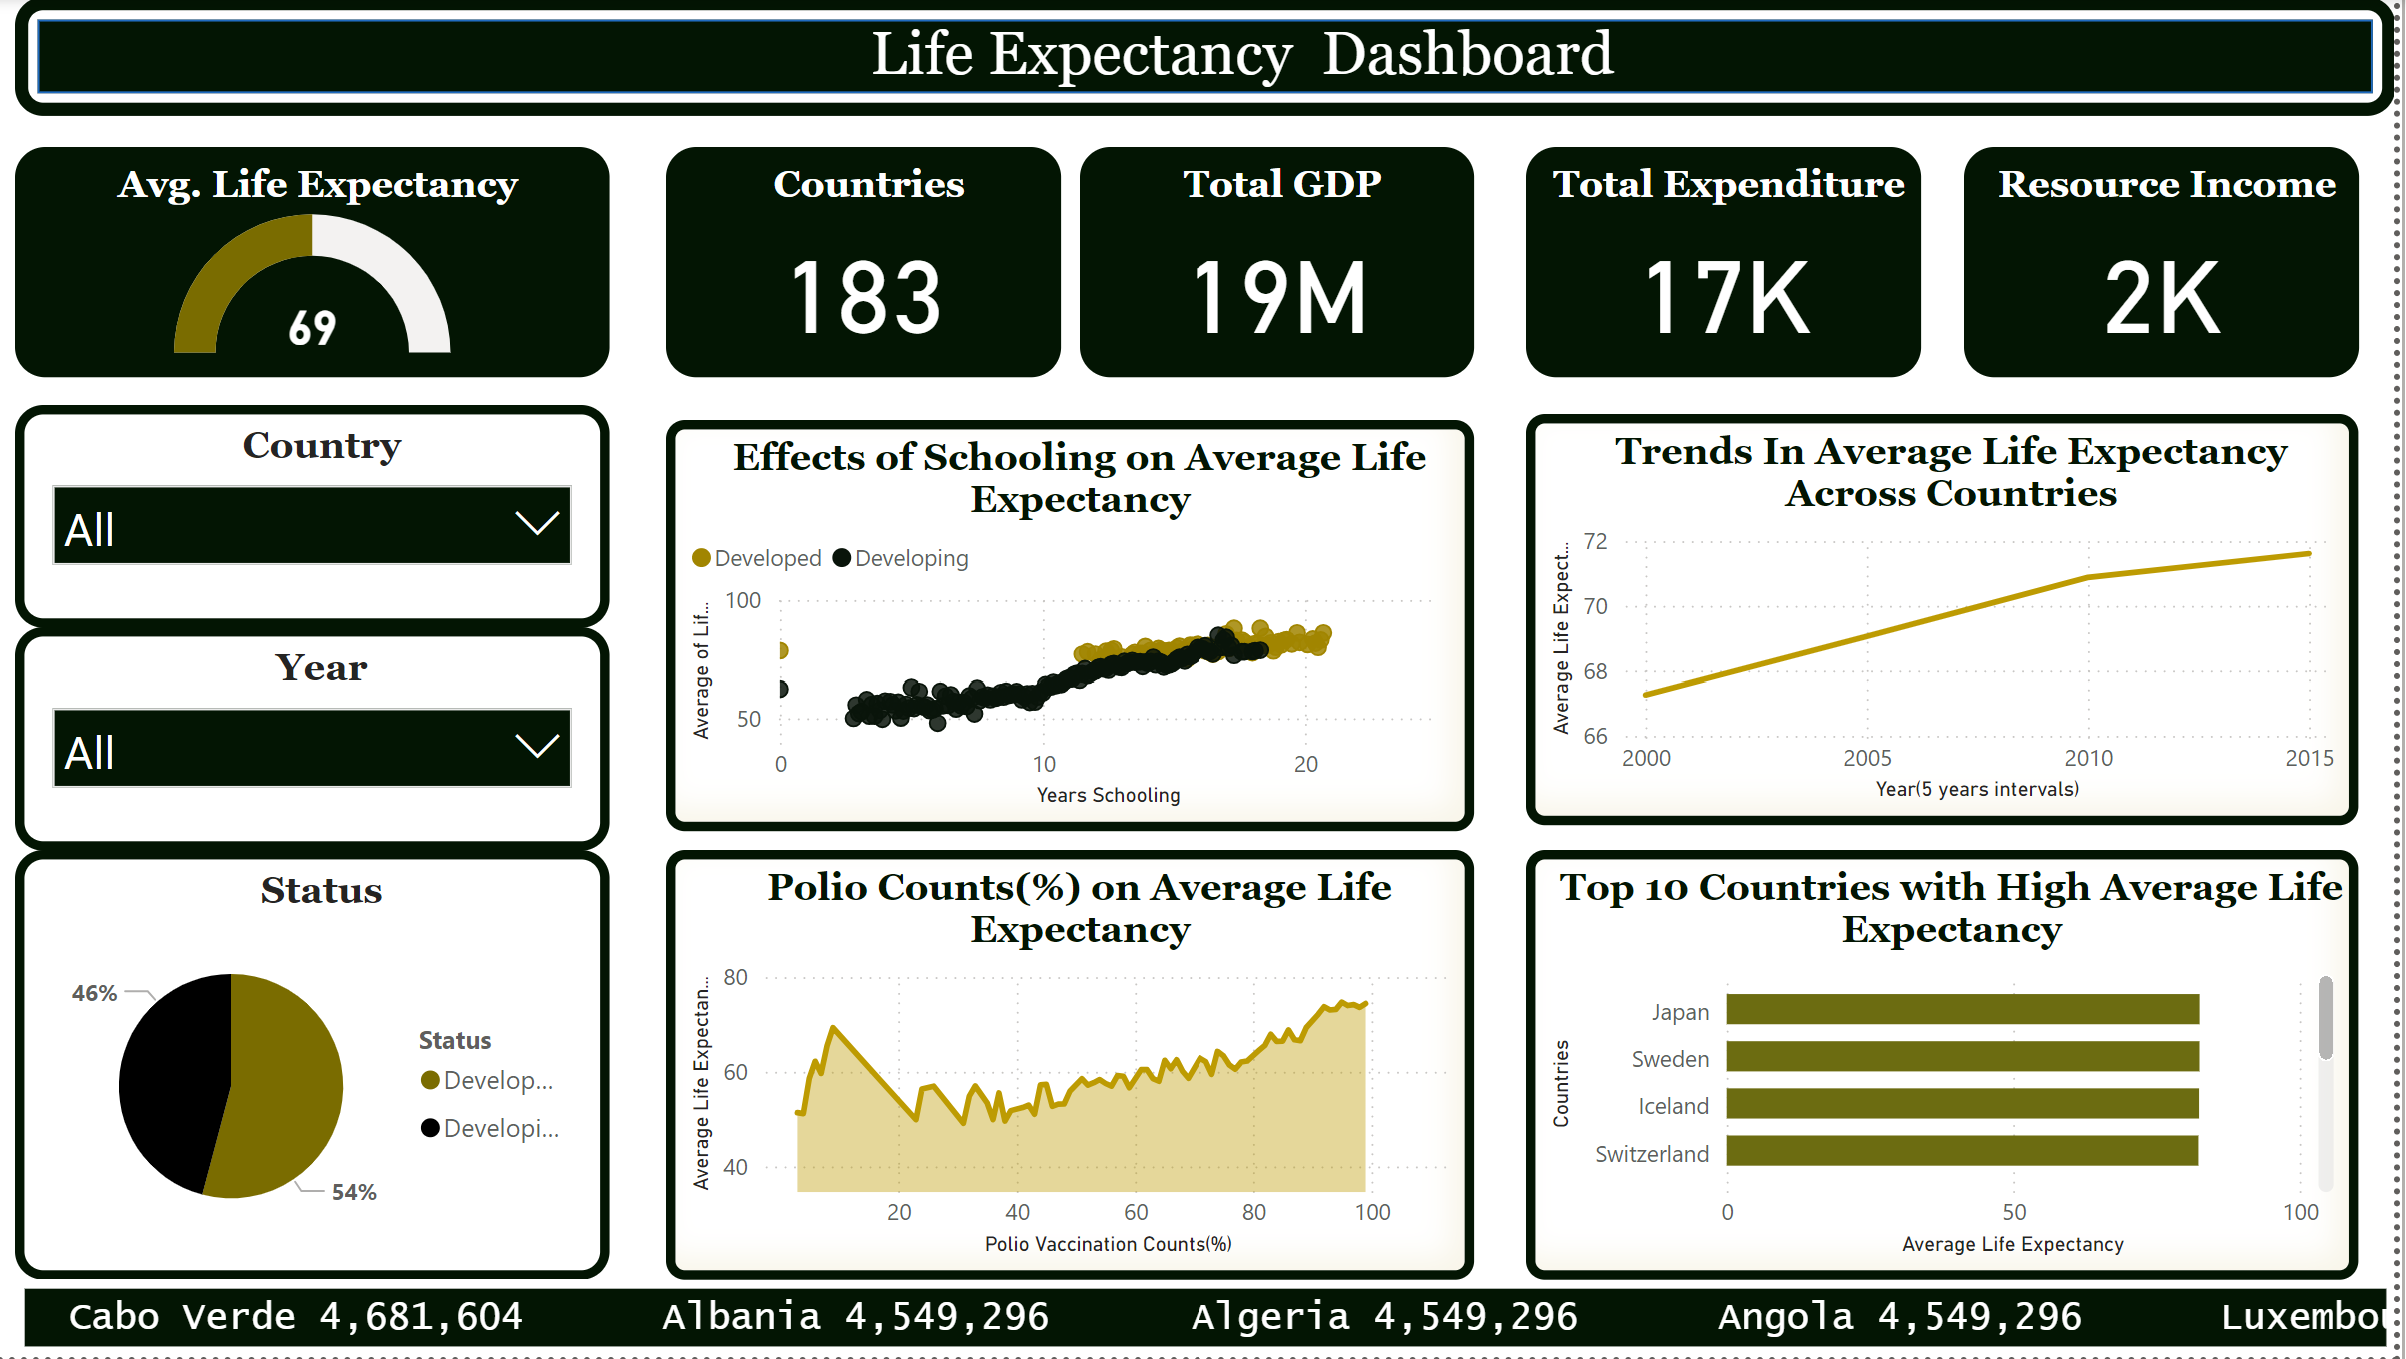

Layout of this report page (visuals, bound fields, positions):
{"tool":"powerbi","page":{"name":"Dashboard","canvas":[1280,720],"ordinal":6},"visuals":[{"type":"shape","box":[18.3,0,1261.7,63],"z":0},{"type":"textbox","box":[363.7,6.1,611.6,56.9],"z":1000},{"type":"pieChart","title":"Status","fields":{"Category":["Life Expentency.Status"],"Y":["Avg(Life Expentency.Life expectancy)"]},"box":[18.3,451,314.9,227.6],"z":2000},{"type":"gauge","title":"Avg. Life Expectancy","fields":{"Y":["Life Expectancy Measures.Average Life Expectancy"]},"box":[18.3,79.2,314.9,121.9],"z":3000},{"type":"ScrollingTextVisual1448795304508","fields":{"Measure Absolute":["Sum(Life Expentency.Population)"],"Category":["Life Expentency.Country"]},"box":[18.3,678.6,1261.7,40.6],"z":4000},{"type":"card","title":"Countries","fields":{"Values":["Count(Life Expentency.Country)"]},"box":[363.7,79.2,209.3,121.9],"z":5000},{"type":"card","title":"Total GDP","fields":{"Values":["Life Expectancy Measures.Total GDP"]},"box":[583.1,79.2,209.3,121.9],"z":6000},{"type":"card","title":"Resource Income","fields":{"Values":["Life Expectancy Measures.Income On Resources"]},"box":[1052.4,79.2,209.3,121.9],"z":7000},{"type":"card","title":"Total Expenditure","fields":{"Values":["Life Expectancy Measures.Total Expenditure"]},"box":[820.8,79.2,209.3,121.9],"z":8000},{"type":"lineChart","title":"Trends In Average Life Expectancy Across Countries","fields":{"Y":["Life Expectancy Measures.Average Life Expectancy"],"Category":["Life Expentency.Year (bins)"]},"box":[820.8,221.5,440.9,217.4],"z":9000},{"type":"slicer","title":"Country","fields":{"Values":["Life Expentency.Country"]},"box":[18.3,215.4,314.9,117.8],"z":10000},{"type":"slicer","title":"Year","fields":{"Values":["Life Expentency.Year"]},"box":[18.3,333.2,314.9,117.8],"z":11000},{"type":"scatterChart","title":"Effects of Schooling on Average Life Expectancy ","fields":{"Y":["Avg(Life Expentency.Life expectancy)"],"X":["Life Expentency.Schooling"],"Series":["Life Expentency.Status"]},"box":[363.7,223.5,428.7,217.4],"z":12000},{"type":"areaChart","title":"Polio Counts(%) on Average Life Expectancy ","fields":{"Y":["Life Expectancy Measures.Average Life Expectancy"],"Category":["Life Expentency.Polio"]},"box":[363.7,451,428.7,227.6],"z":13000},{"type":"clusteredBarChart","title":"Top 10 Countries with High Average Life Expectancy","fields":{"Category":["Life Expentency.Country"],"Y":["Life Expectancy Measures.Average Life Expectancy"]},"box":[820.8,451,440.9,227.6],"z":14000}]}

Visuals, with their boxes in screenshot pixels (x1, y1, x2, y2), scaled from the page's 1280x720 canvas onto the 2406x1359 screenshot:
shape: Rect(34, 0, 2405, 119)
textbox: Rect(684, 12, 1833, 119)
"Status" pieChart: Rect(34, 851, 626, 1281)
"Avg. Life Expectancy" gauge: Rect(34, 149, 626, 380)
ScrollingTextVisual1448795304508 - Sum(Life Expentency.Population) x Life Expentency.Country: Rect(34, 1281, 2405, 1357)
"Countries" card: Rect(684, 149, 1077, 380)
"Total GDP" card: Rect(1096, 149, 1489, 380)
"Resource Income" card: Rect(1978, 149, 2372, 380)
"Total Expenditure" card: Rect(1543, 149, 1936, 380)
"Trends In Average Life Expectancy Across Countries" lineChart: Rect(1543, 418, 2372, 828)
"Country" slicer: Rect(34, 407, 626, 629)
"Year" slicer: Rect(34, 629, 626, 851)
"Effects of Schooling on Average Life Expectancy " scatterChart: Rect(684, 422, 1489, 832)
"Polio Counts(%) on Average Life Expectancy " areaChart: Rect(684, 851, 1489, 1281)
"Top 10 Countries with High Average Life Expectancy" clusteredBarChart: Rect(1543, 851, 2372, 1281)
